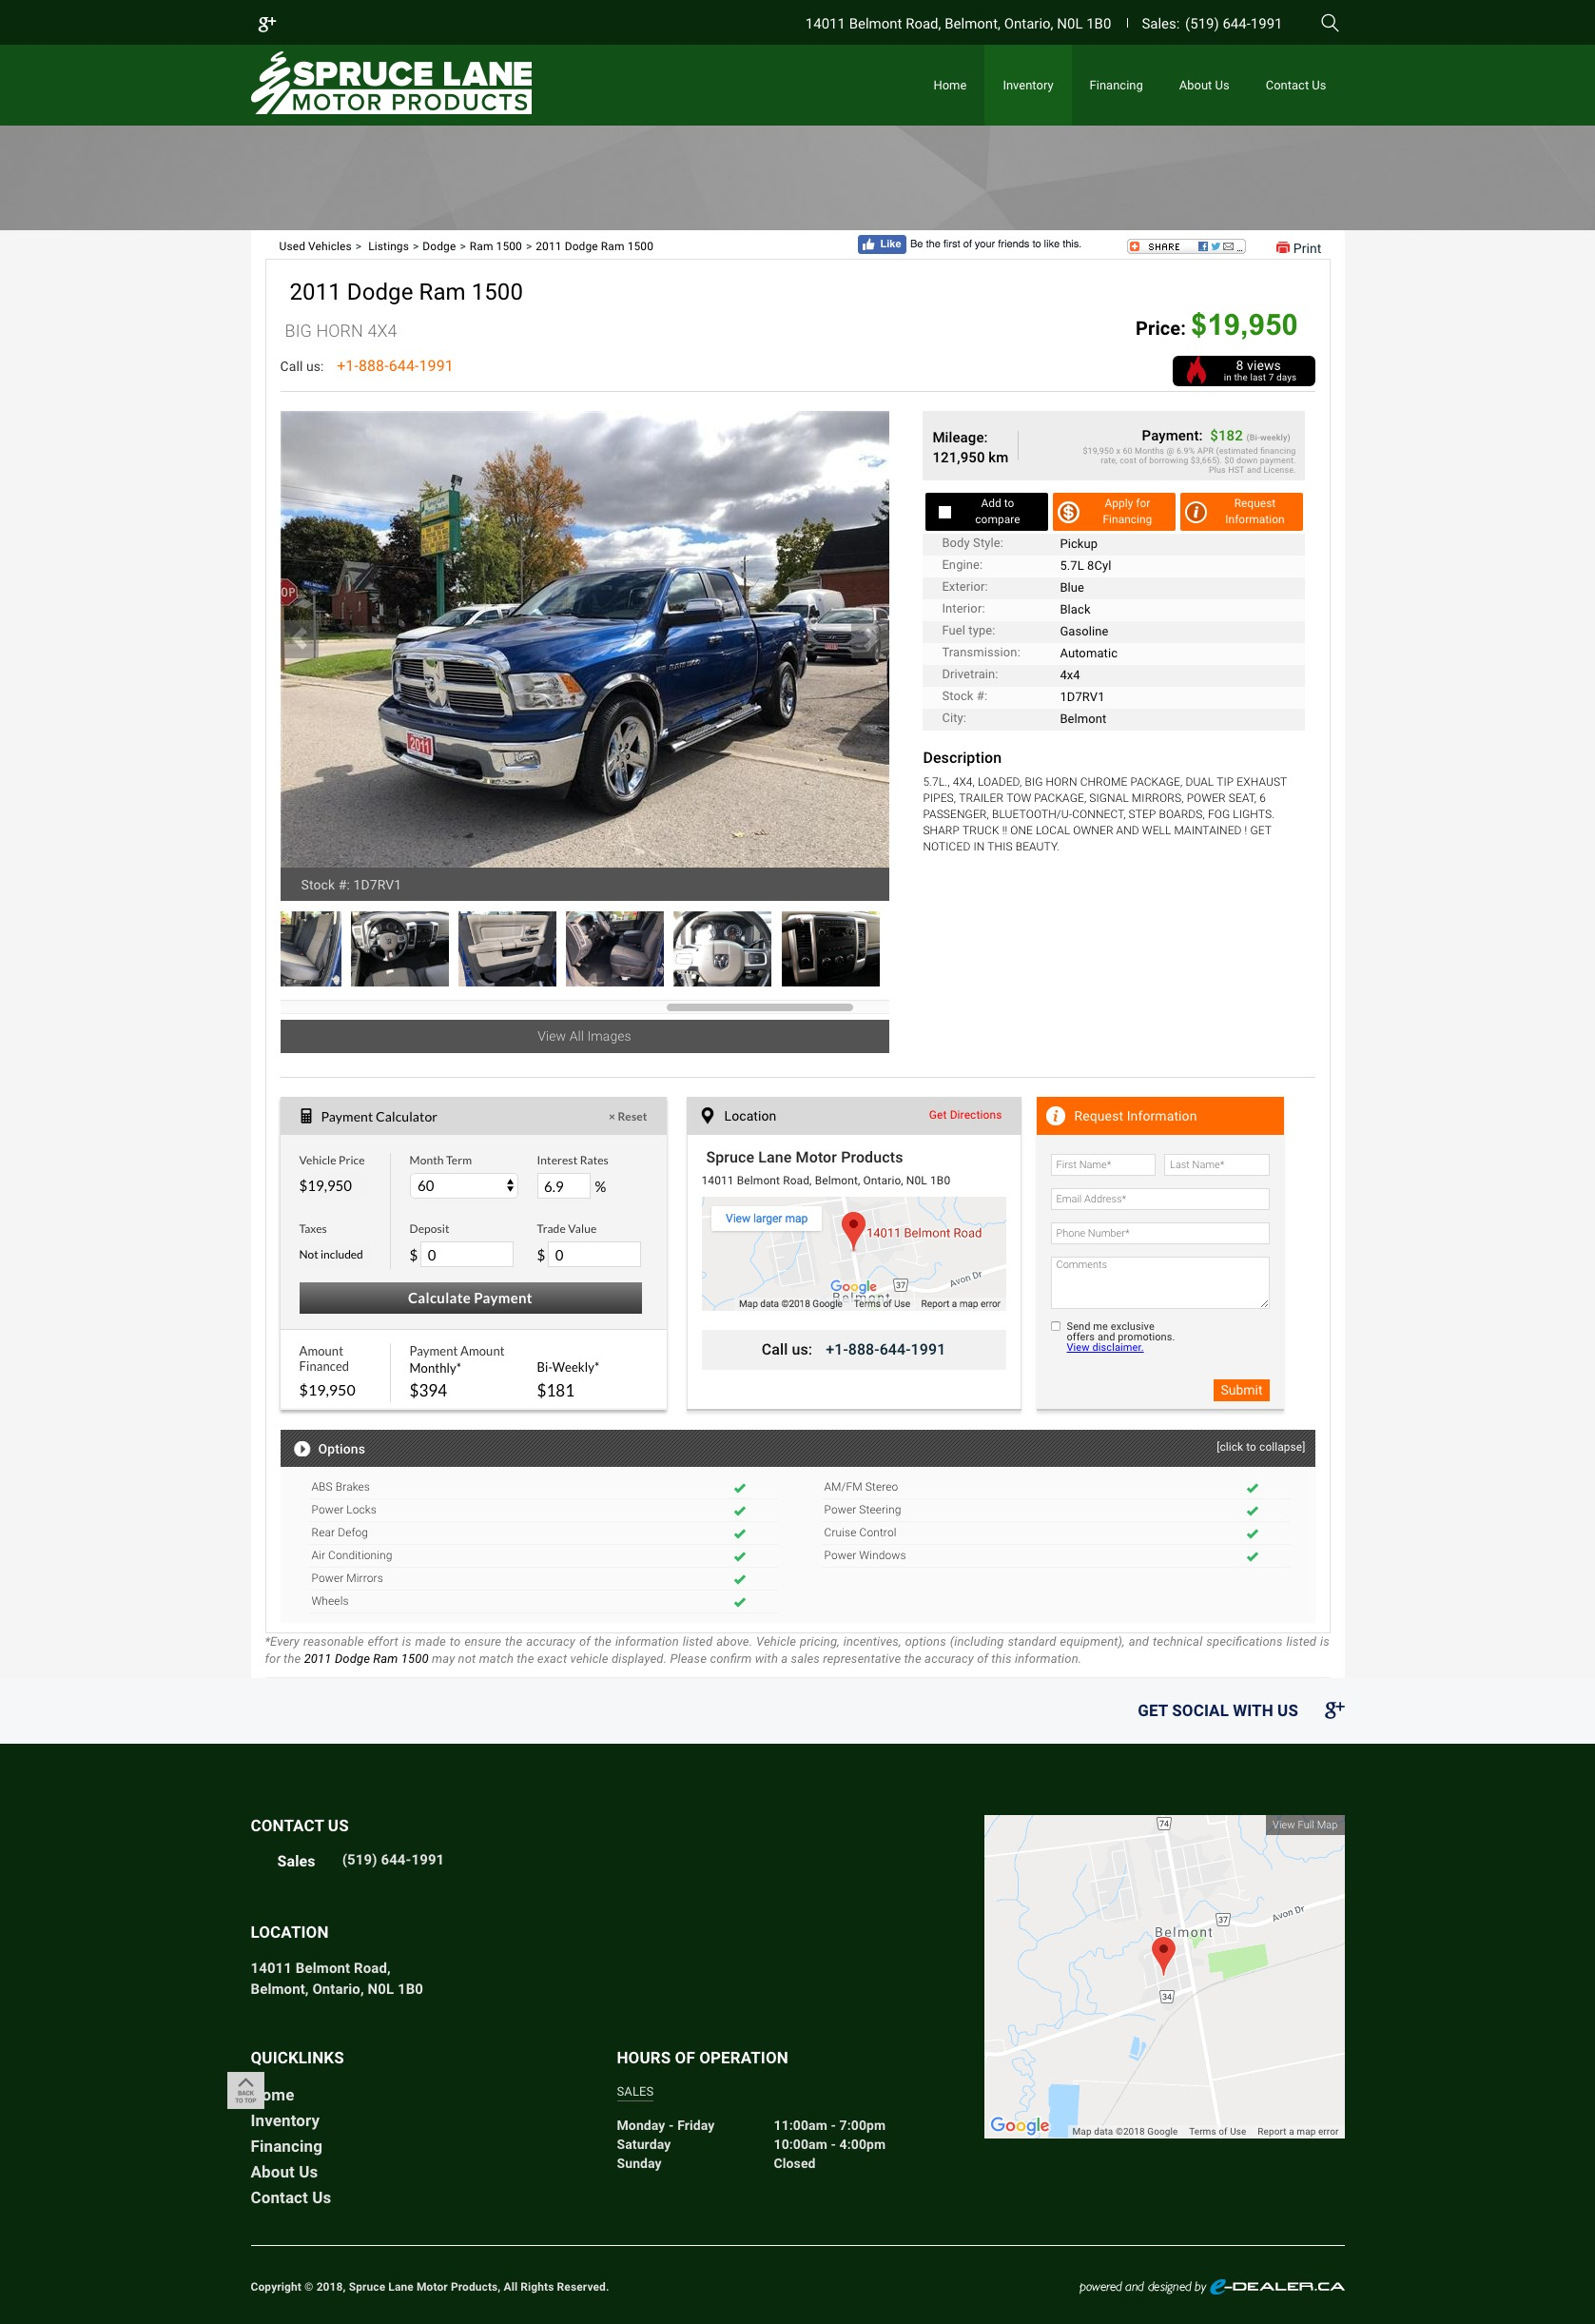car: (850, 620, 894, 662)
